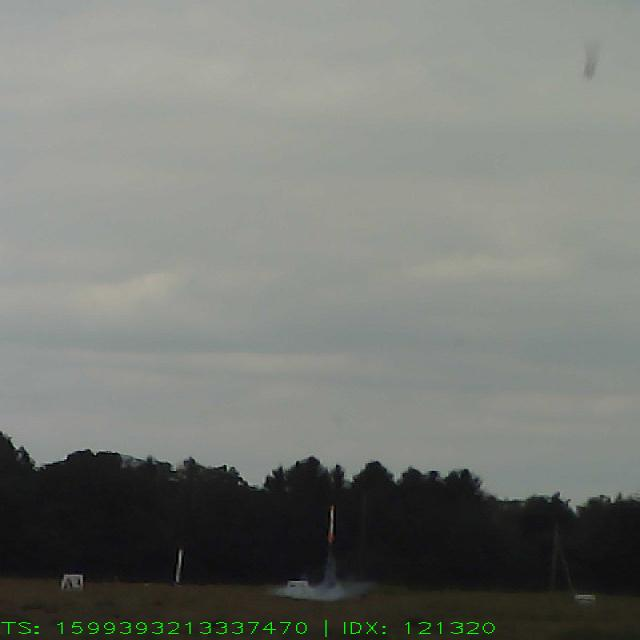Rocket: (173, 549, 183, 584), (326, 504, 335, 542)
